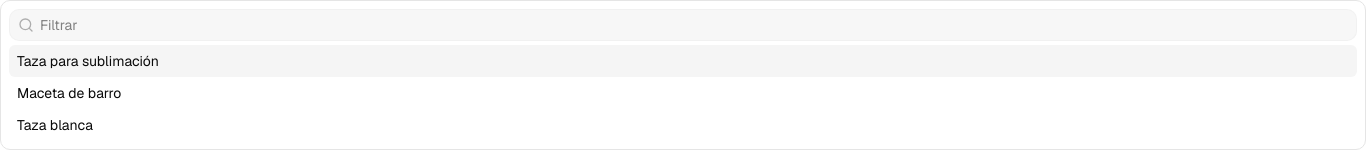
it: SelectionList › sin coincidencias rinde el contenido vacío con el término
This screenshot has width=1366, height=167.
Type "Florería" into the dropdown named "Productos".
click(695, 25); type("Florería")  # box [34,15,1356,35]
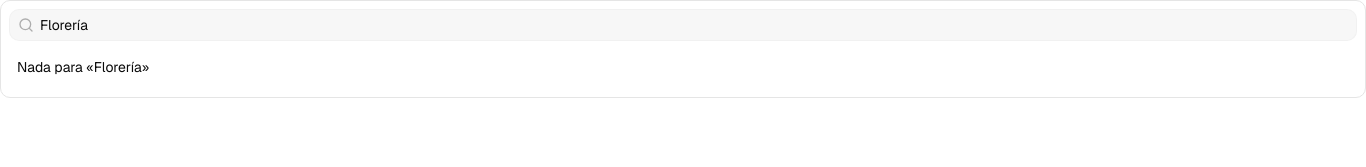
Check: no options are shown
Check: the text "Nada para «Florería»" is shown, box [17,58,149,76]
